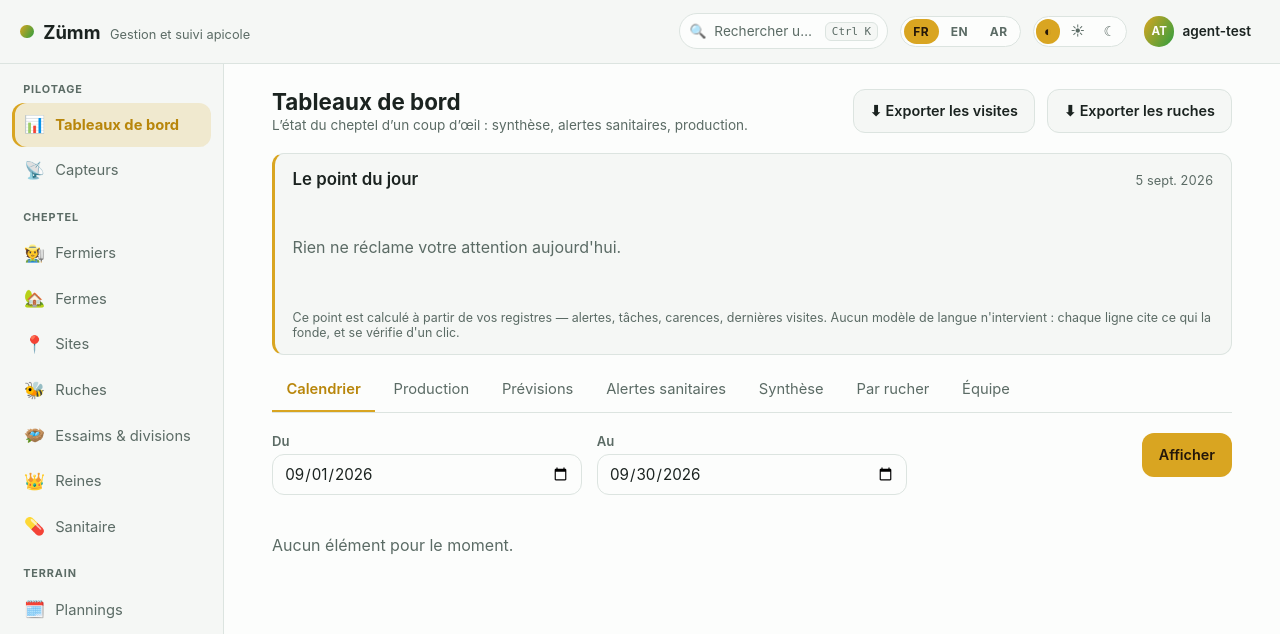
Test: ossature de la console › sert « Mon compte » depuis le menu de profil, hors du rail
Expected: the heading "Tableaux de bord" is shown, x1=272 y1=88 x2=461 y2=115
Click the button "AT agent-test": (1200, 32) x1=1139 y1=11 x2=1260 y2=52
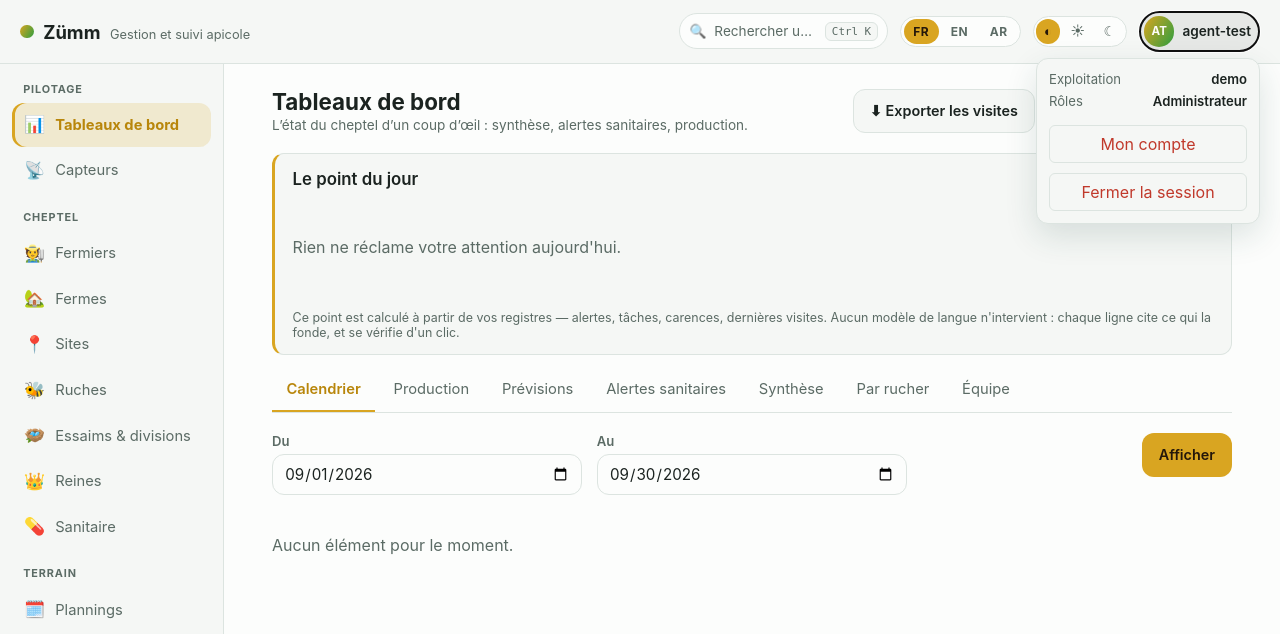
Click the menu item "Mon compte": (1148, 144) x1=1049 y1=126 x2=1247 y2=164
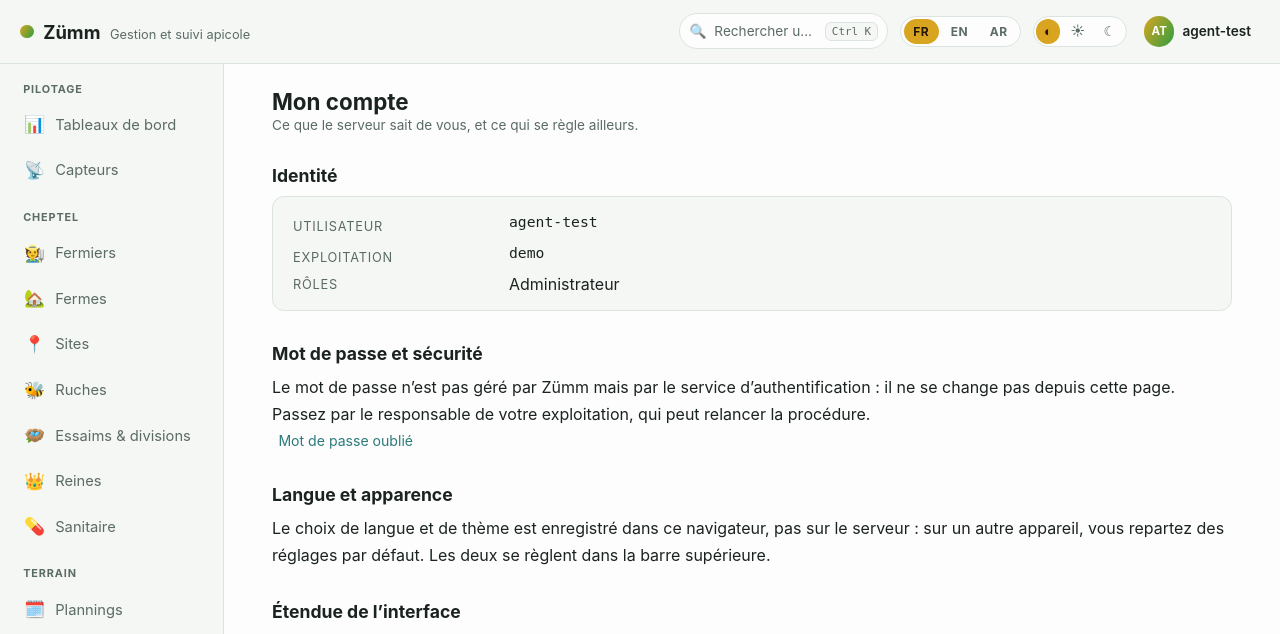
Expected: the button "🐝 Ruches" is shown, x1=12 y1=368 x2=211 y2=412
Now the heading "Mon compte" is shown, box x1=272 y1=88 x2=409 y2=115
